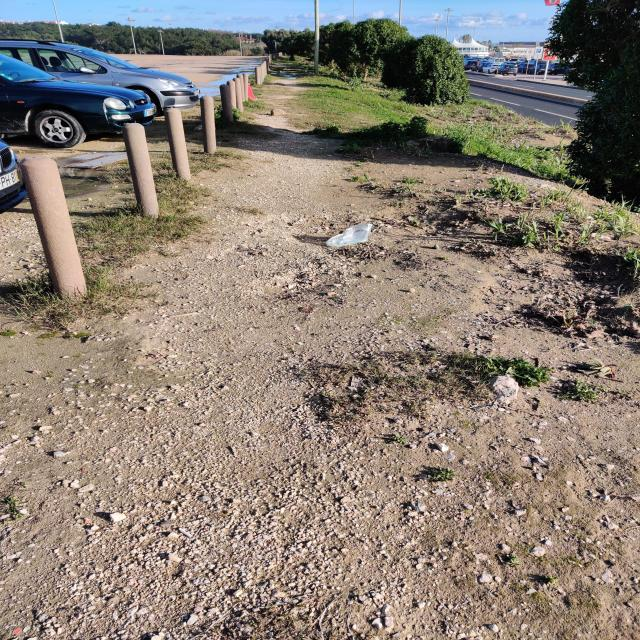litter: (325, 220, 375, 247)
